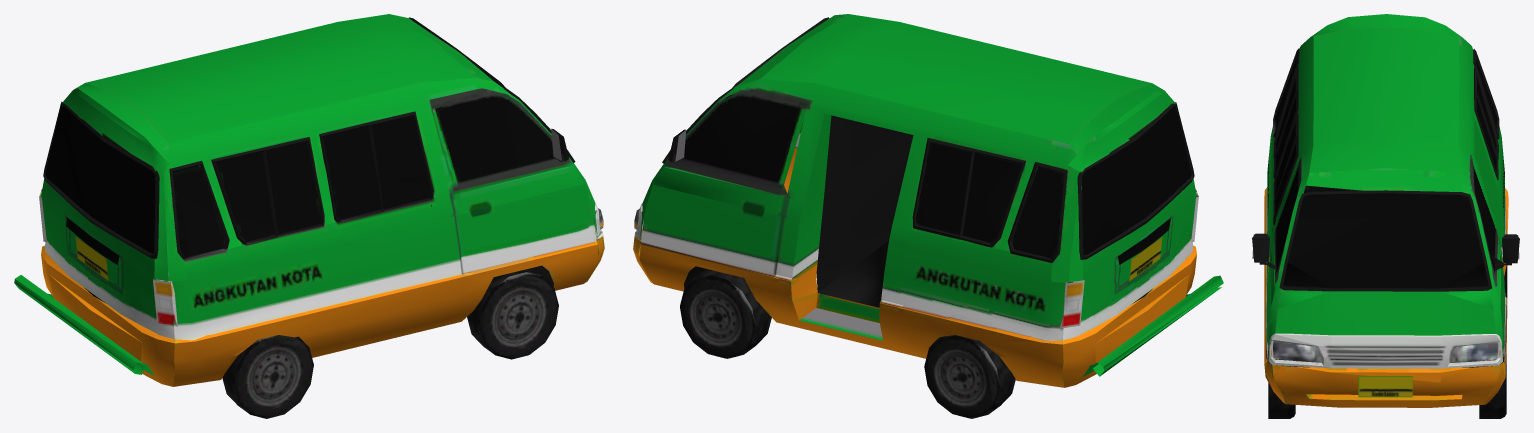
File: Avanza.fbx
3 renders of one model, left to right at view 1: azimuth 30°, elevation 25°; view 2: azimuth 150°, elevation 25°; view 3: azimuth 270°, elevation 25°, orthographic. The views are drawn at different scales.
Parts seen in each view (by area): view 1: mesh_18_133.nr, mesh_15_119.nr.004, mesh_15_119.nr.001; view 2: mesh_18_133.nr, mesh_15_119.nr.002, mesh_15_119.nr.003; view 3: mesh_18_133.nr, mesh_15_119.nr.002, mesh_15_119.nr.004.
Part boxes in pixels (left/top/right/bottom): mesh_18_133.nr: left=14, top=14, right=604, bottom=386; mesh_15_119.nr.004: left=467, top=268, right=558, bottom=359; mesh_15_119.nr.001: left=222, top=335, right=313, bottom=418; mesh_18_133.nr: left=633, top=14, right=1223, bottom=387; mesh_15_119.nr.002: left=680, top=268, right=771, bottom=358; mesh_15_119.nr.003: left=924, top=335, right=1015, bottom=418; mesh_18_133.nr: left=1252, top=14, right=1519, bottom=407; mesh_15_119.nr.002: left=1479, top=355, right=1506, bottom=418; mesh_15_119.nr.004: left=1268, top=383, right=1295, bottom=418.
Bounding box in the file's own units: 826 × 456 × 473.
Materials: 5 (5 with a texture image).
